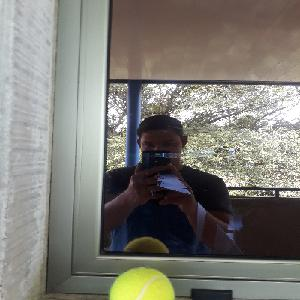Ball: (108, 267, 175, 298)
